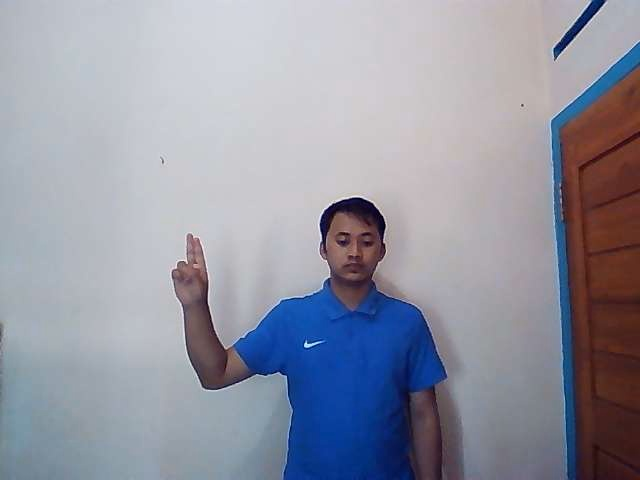U: (171, 233, 209, 302)
